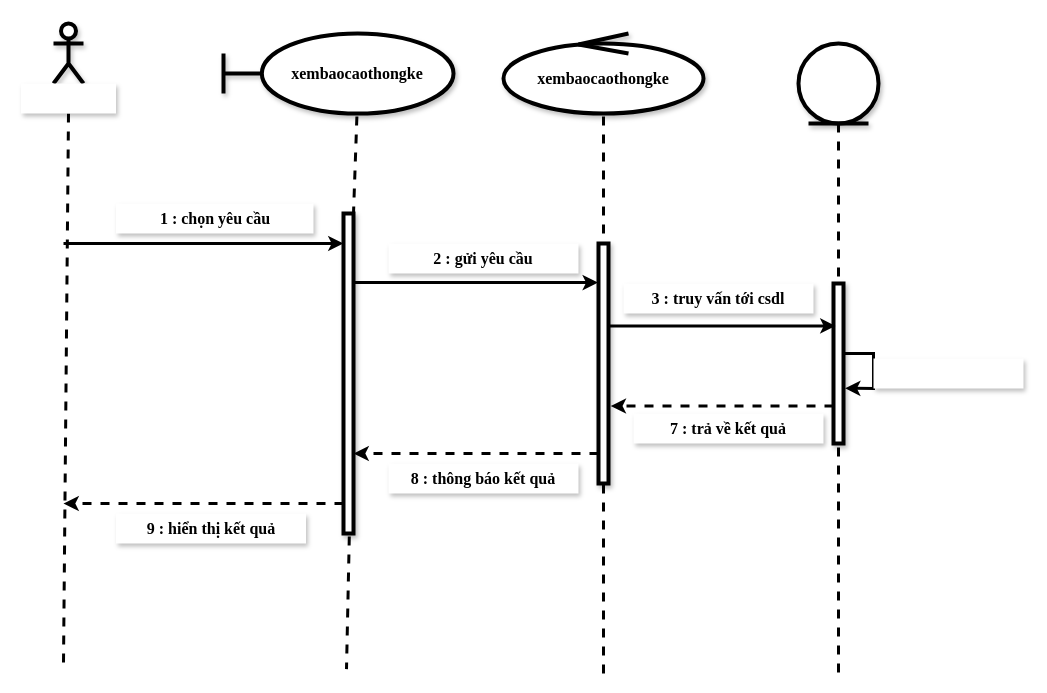
The diagram is 1047 pixels wide and 693 high, and some of its shapes have lost their labels. The centre of each missing label's shape, as x and y in pixels:
"6: kiểm tra dữ liệu" belongs at point (949, 374).
"Actor" belongs at point (69, 54).
"csdl" belongs at point (839, 84).
"khachhang" belongs at point (69, 99).
